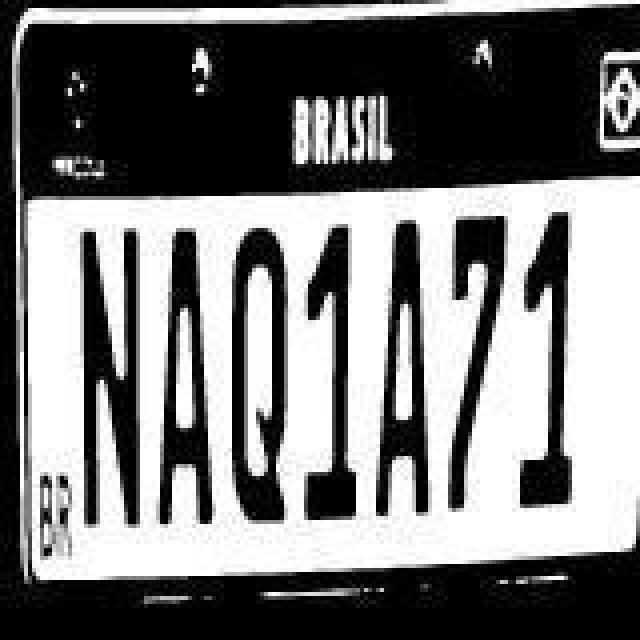1: (516, 214, 588, 506), (302, 218, 370, 518)
7: (444, 210, 516, 510)
A: (152, 232, 224, 536), (374, 220, 442, 516)
N: (72, 228, 152, 532)
Q: (228, 232, 300, 536)
